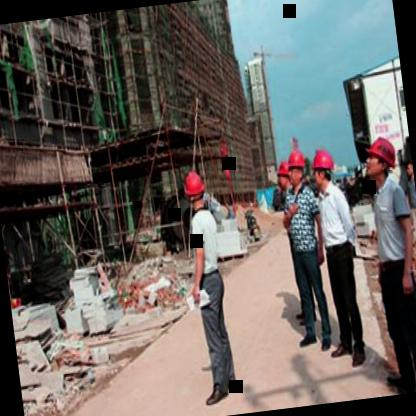head: (404, 158, 414, 178)
helmet: (358, 134, 400, 188), (308, 146, 338, 192), (180, 164, 209, 210), (282, 146, 310, 188), (272, 158, 292, 192)
